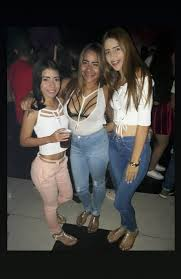person: (99, 32, 151, 110), (65, 48, 113, 108), (29, 62, 67, 135)
